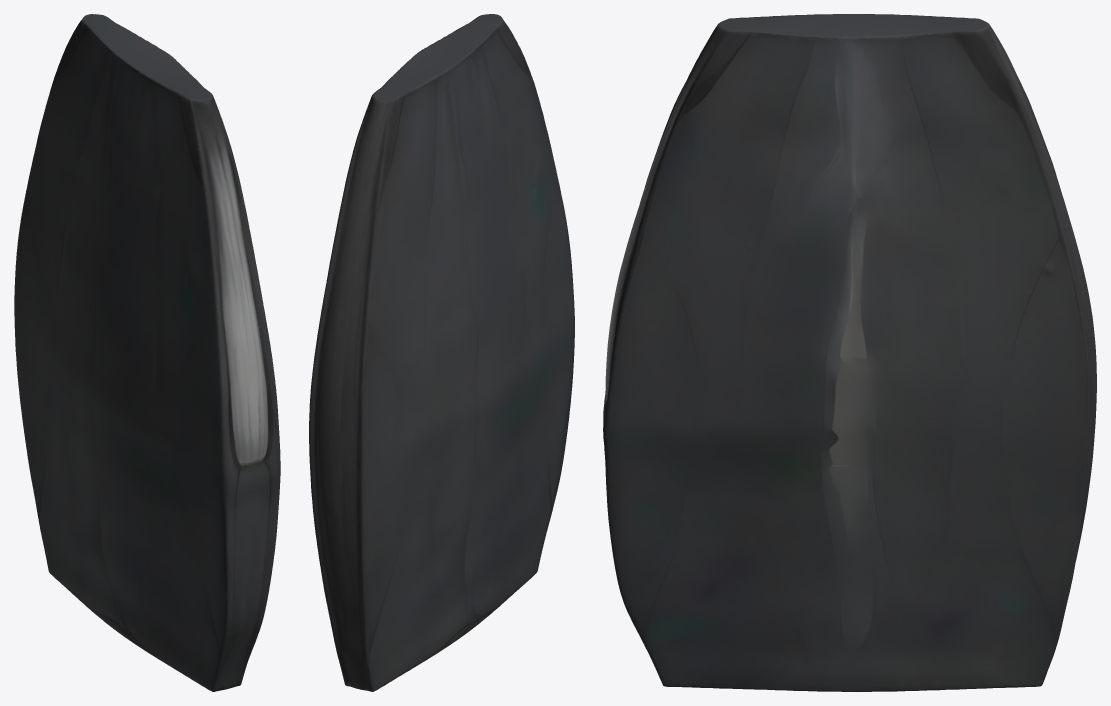
File: tripo_pbr_model_b18d6e69-2f54-_d20e74fe_opt.glb
3 views of the same model, side by side, from view 1: azimuth 30°, elevation 25°; view 2: azimuth 150°, elevation 25°; view 3: azimuth 270°, elevation 25° (orthographic). The views are drawn at different scales.
Parts seen in each view (by area): view 1: tripo_node_b18d6e69-2f54-4abf-8d0f-ac51a96fa3b6; view 2: tripo_node_b18d6e69-2f54-4abf-8d0f-ac51a96fa3b6; view 3: tripo_node_b18d6e69-2f54-4abf-8d0f-ac51a96fa3b6.
Boxes of the visible parts, bbox=[...] form: tripo_node_b18d6e69-2f54-4abf-8d0f-ac51a96fa3b6: bbox=[14, 14, 280, 691]; tripo_node_b18d6e69-2f54-4abf-8d0f-ac51a96fa3b6: bbox=[309, 14, 574, 691]; tripo_node_b18d6e69-2f54-4abf-8d0f-ac51a96fa3b6: bbox=[603, 14, 1096, 691].
Size of the model in its own units: 0.1789 by 1 by 0.6818.
Materials: 1 (1 with a texture image).
